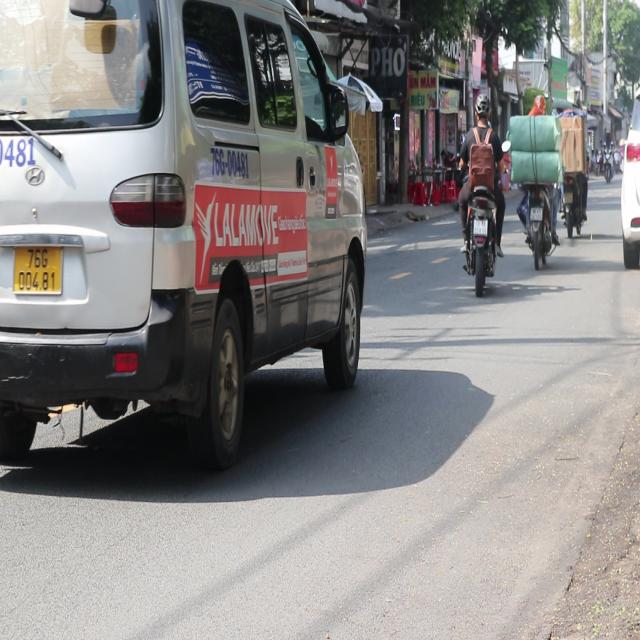helmet: (473, 90, 491, 124)
licenseplate: (456, 89, 506, 291)
nohelmet: (473, 218, 487, 235)
